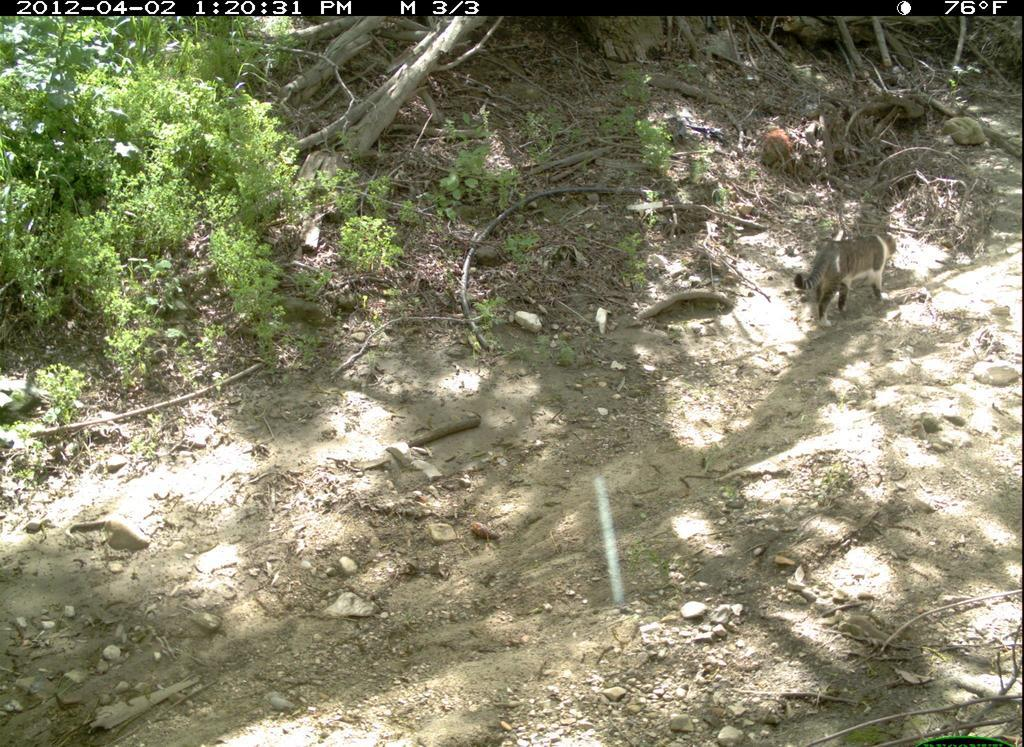cat: (795, 227, 912, 333)
